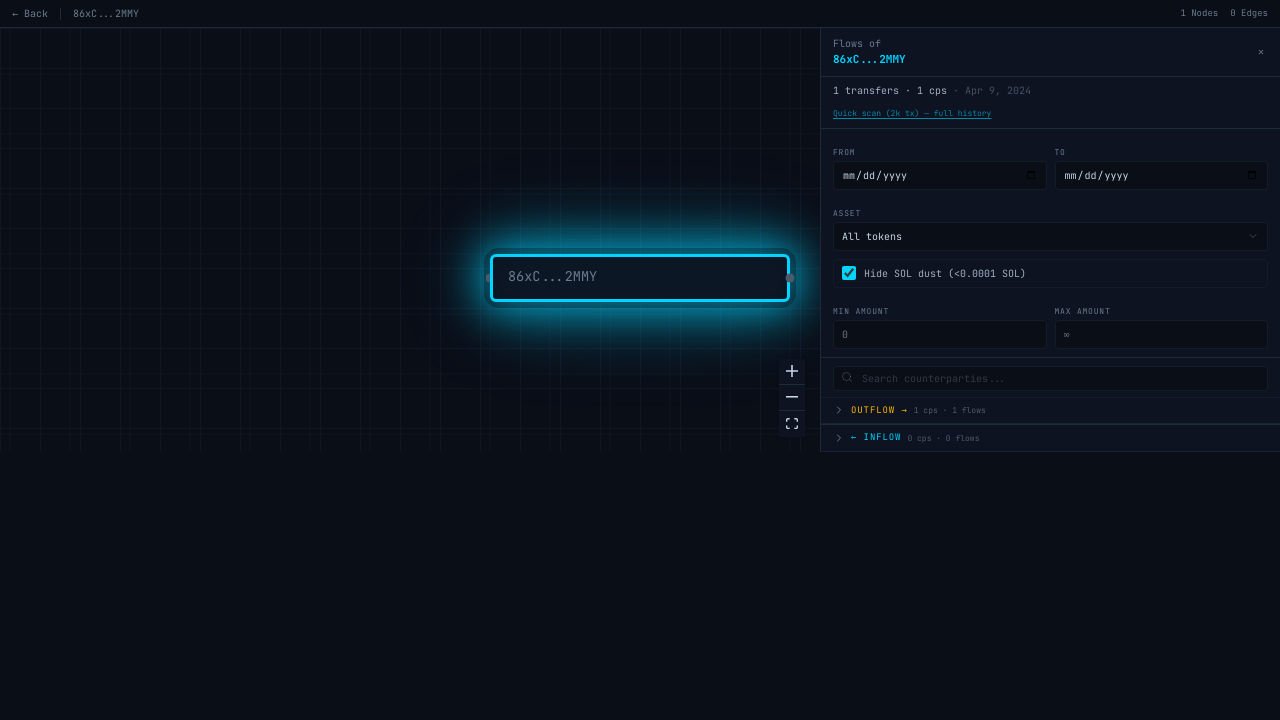
Test: TraceExplorer › marks non-wallet counterparties as wallet-only instead of allowing expansion
What coordinates should you click on to do the following:
click the text "Outflow →"
I would click on:
 (879, 410)
Its box is [851,404,908,417].
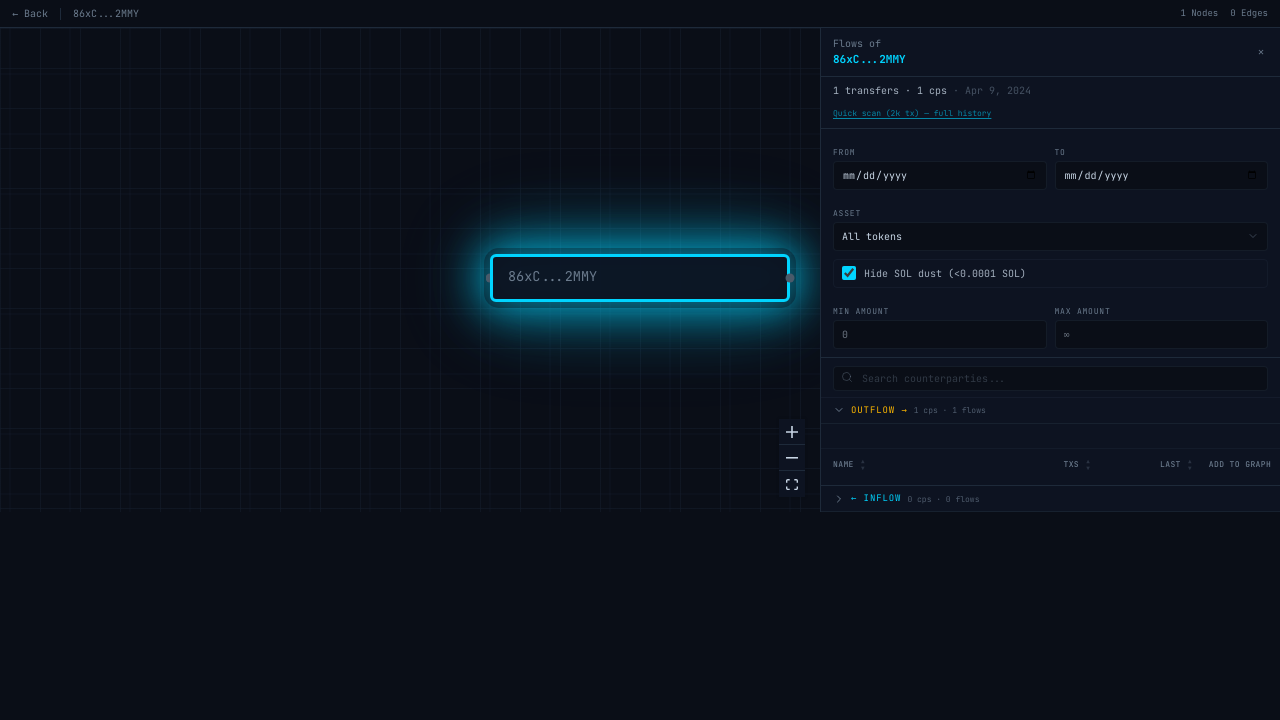
Expected: the text "Program Counterparty" is shown, [849,454,957,467]
Expected: the text "wallet only" is shown, [1217,465,1263,474]
